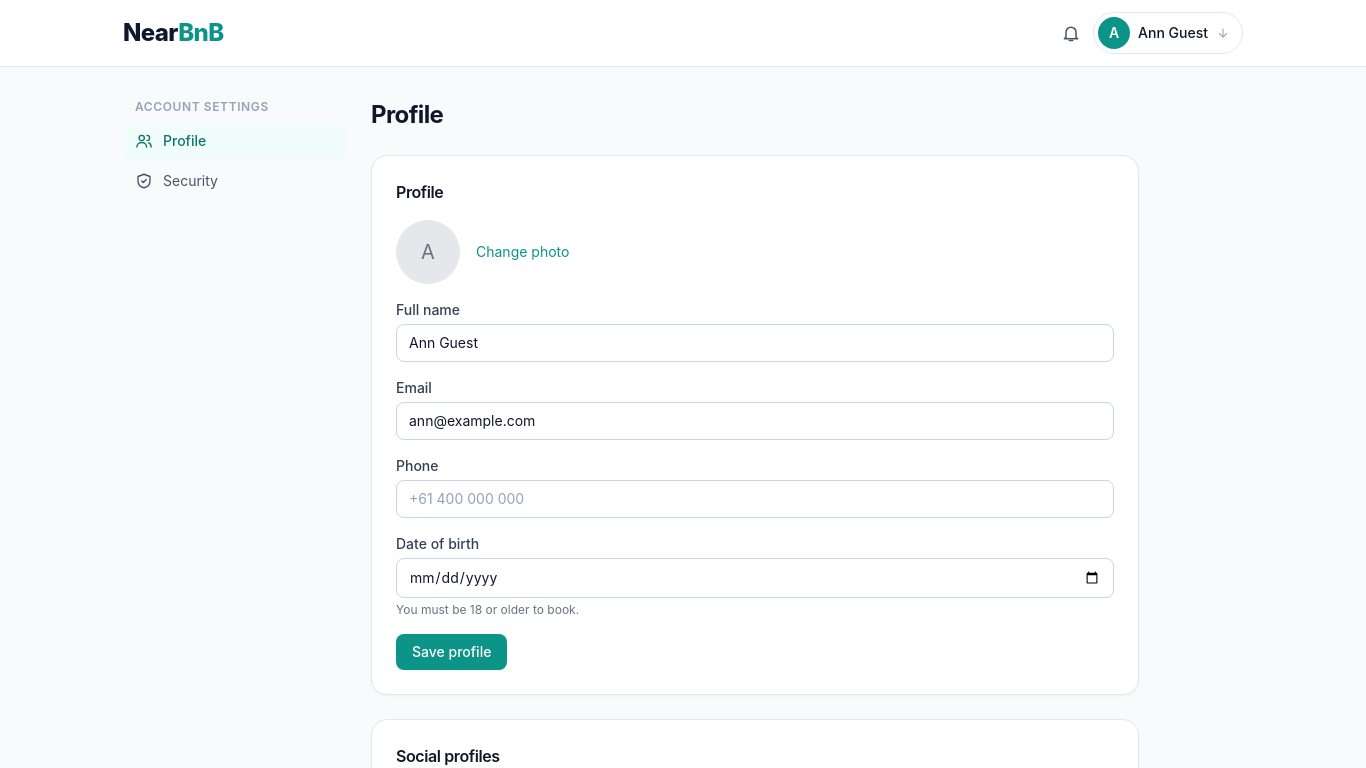
account settings and trips › moves between sections from the side menu
The width and height of the screenshot is (1366, 768).
Step 1. Click the link "Security" → (176, 181), box [135, 172, 218, 190]
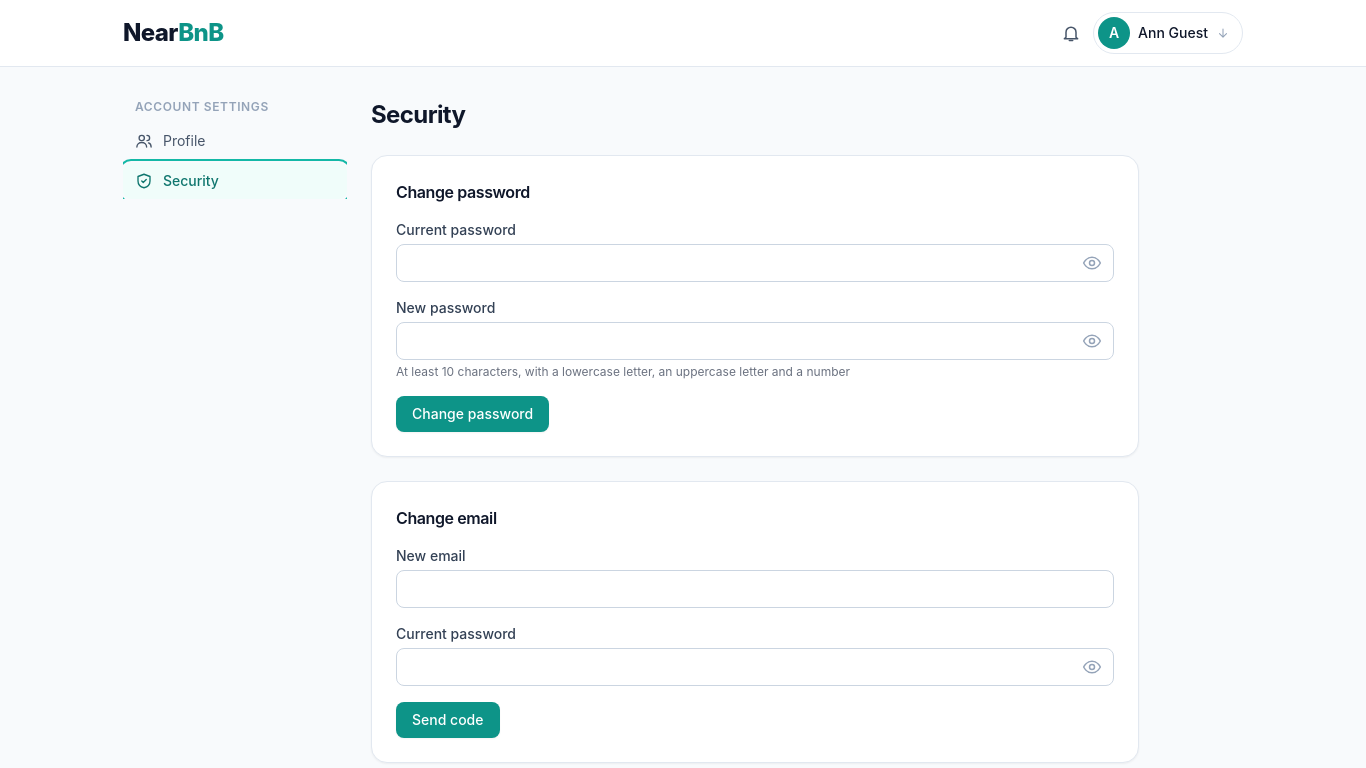
Now the heading "Security" is shown, box [371, 100, 465, 129]
